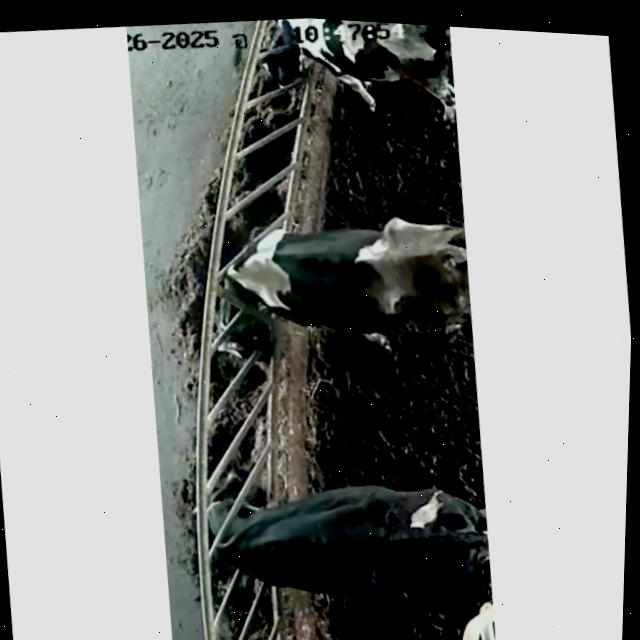eat: (149, 192, 359, 344), (153, 440, 351, 599), (181, 11, 396, 107)
